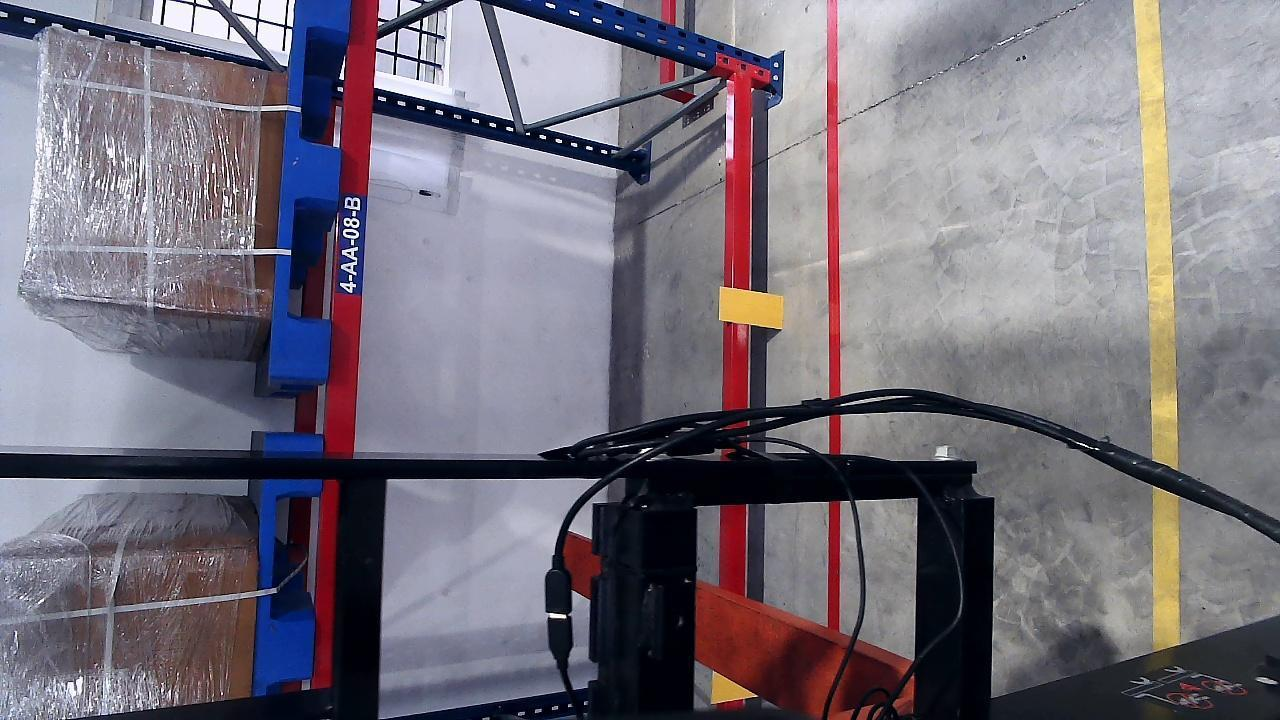red_line: (817, 0, 841, 624)
yellow_line: (1142, 1, 1182, 641)
